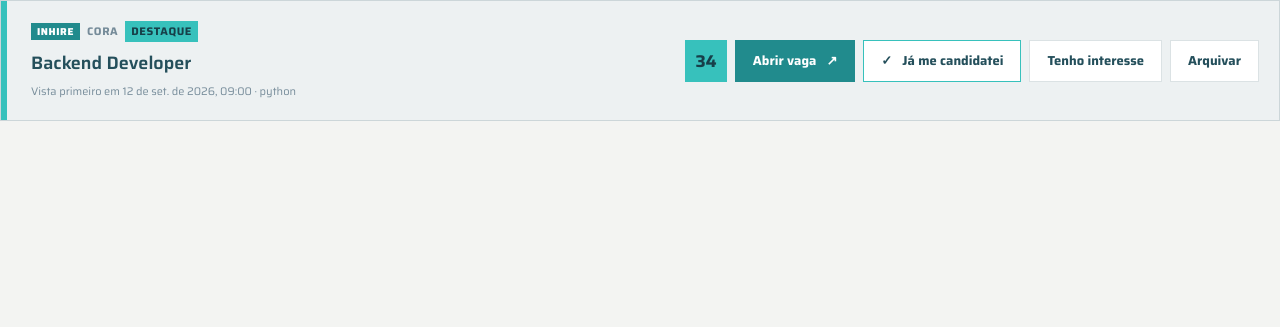
Test: job row actions › Interested saves the job at the interest stage
Click the button "Tenho interesse".
click(1096, 60)  # box [1030,40,1162,82]
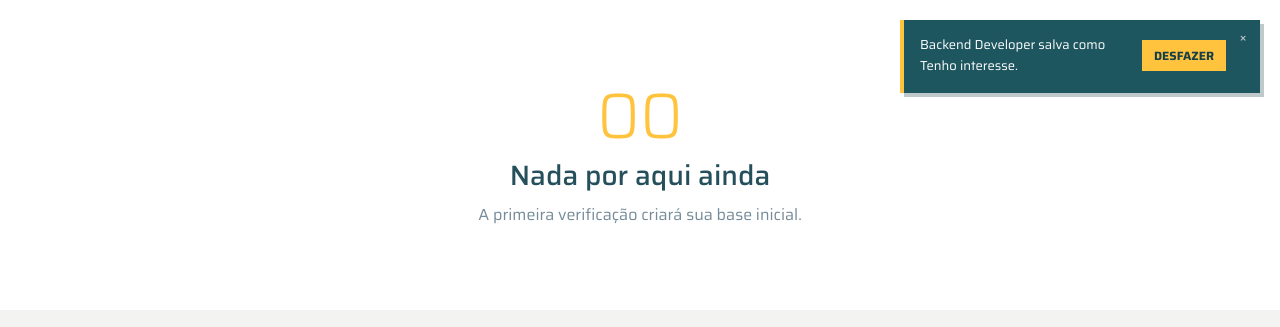
Check: the text "Backend Developer salva como Tenho interesse." is shown, box [920,34,1128,76]
